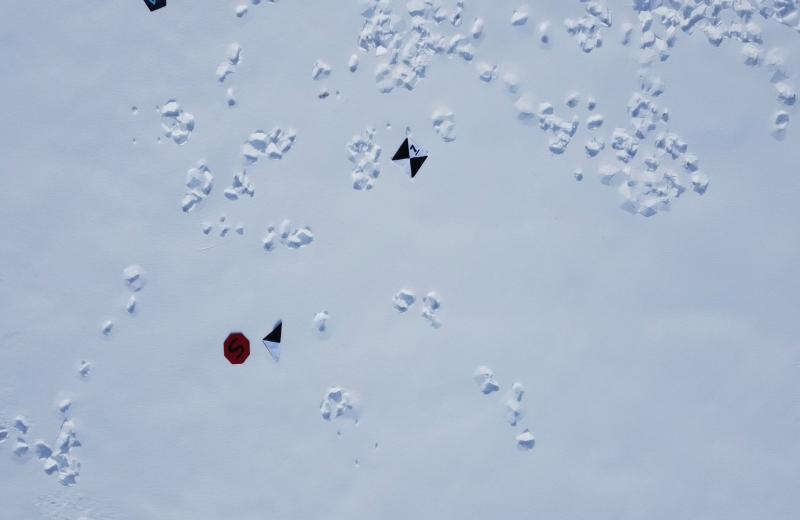Octagon: (221, 327, 252, 367)
